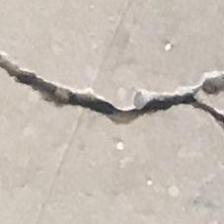Crack: (0, 34, 224, 152)
